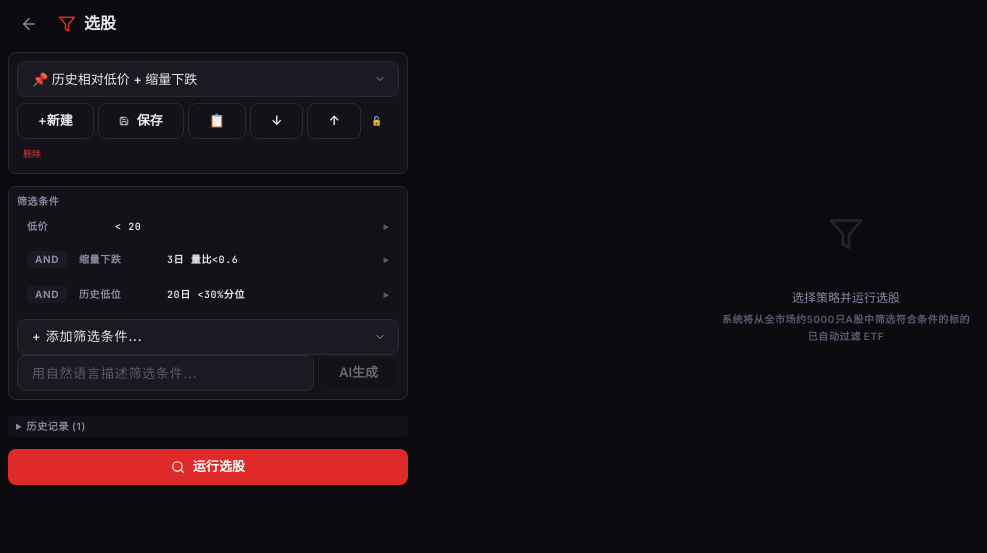
Test case: ScreenerPage › deletes a history record after confirm
The width and height of the screenshot is (987, 553).
Check: the text "低价" is shown, box [27,220,48,232]
Step 1. Click the heading "历史记录 (1)" → (52, 426), box [8,416,408,436]
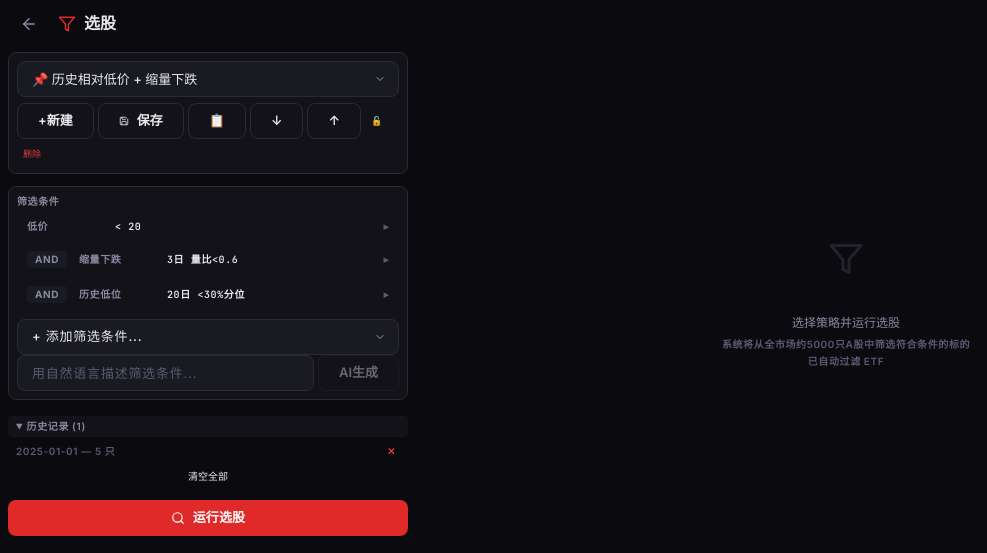
Step 2. Click the button "✕" → (392, 451), box [383,444,400,458]
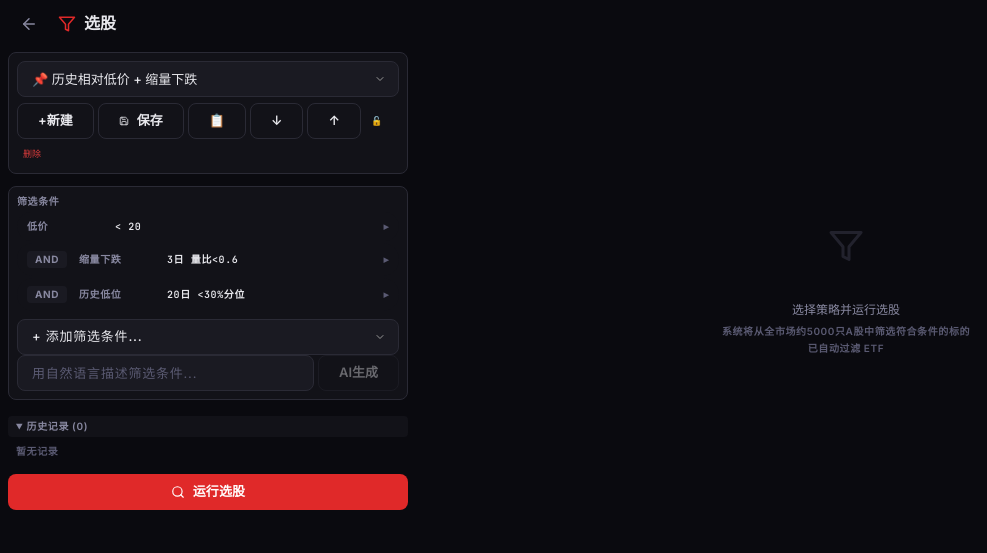
Check: the text "2025-01-01 — 5 只" is gone
